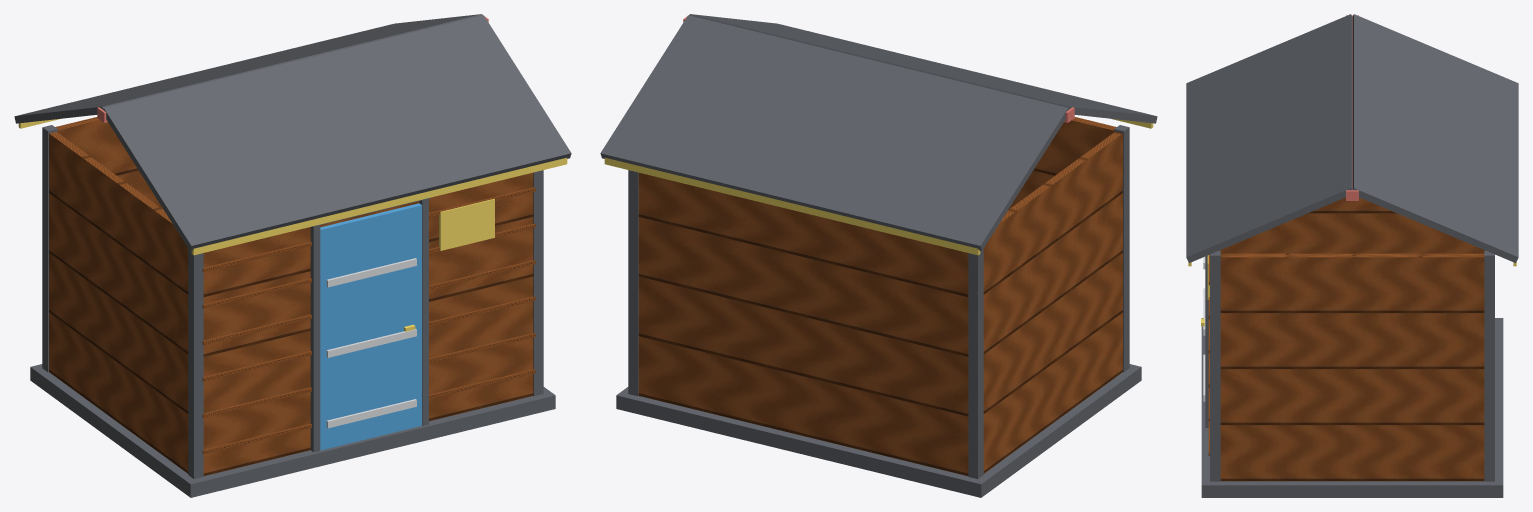
Rendered from dog-agility-and-training-field-club-shed-5e51ef72__35613.glb.
3 renders of one model, left to right at view 1: azimuth 30°, elevation 25°; view 2: azimuth 150°, elevation 25°; view 3: azimuth 270°, elevation 25°, orthographic. The views are drawn at different scales.
Parts seen in each view (by area): view 1: club-shed-charcoal, club-shed-timber, door/azure, club-shed-sunflower, door/steel; view 2: club-shed-timber, club-shed-charcoal, club-shed-sunflower; view 3: club-shed-charcoal, club-shed-timber.
Boxes of the visible parts, left/top/right/bottom form: club-shed-charcoal: left=14, top=14, right=571, bottom=497; club-shed-timber: left=49, top=117, right=535, bottom=475; door/azure: left=320, top=203, right=421, bottom=450; club-shed-sunflower: left=18, top=118, right=567, bottom=255; door/steel: left=326, top=258, right=416, bottom=428; club-shed-timber: left=638, top=117, right=1122, bottom=475; club-shed-charcoal: left=600, top=14, right=1157, bottom=497; club-shed-sunflower: left=604, top=118, right=1153, bottom=255; club-shed-charcoal: left=1186, top=14, right=1518, bottom=497; club-shed-timber: left=1208, top=197, right=1484, bottom=481.
Size of the model in its own units: 3.54 by 2.94 by 2.83.
Materials: 6 (1 with a texture image).
